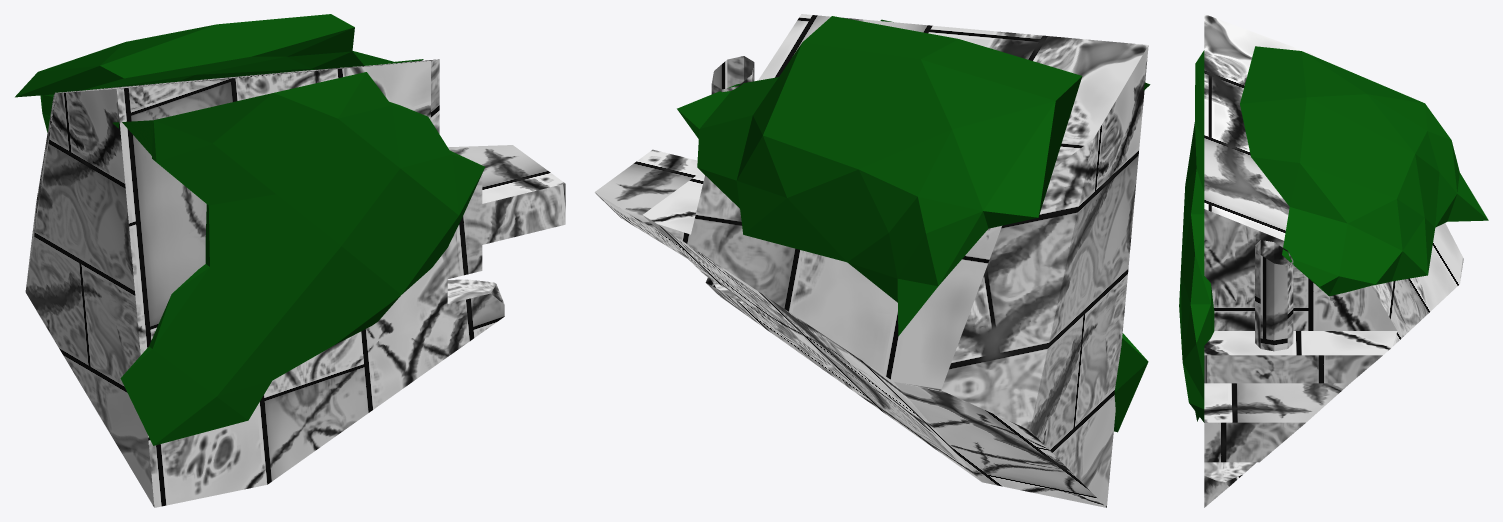
Rendered from building_frag05.fbx.
3 views of the same model, side by side, from view 1: azimuth 30°, elevation 25°; view 2: azimuth 150°, elevation 25°; view 3: azimuth 270°, elevation 25° (orthographic). The views are drawn at different scales.
Parts seen in each view (by area): view 1: building_frag05; view 2: building_frag05; view 3: building_frag05.
Part boxes in pixels (left/top/right/bottom): building_frag05: left=15, top=14, right=565, bottom=507; building_frag05: left=594, top=14, right=1150, bottom=507; building_frag05: left=1179, top=14, right=1488, bottom=507.
Size of the model in its own units: 362 by 329 by 221.
